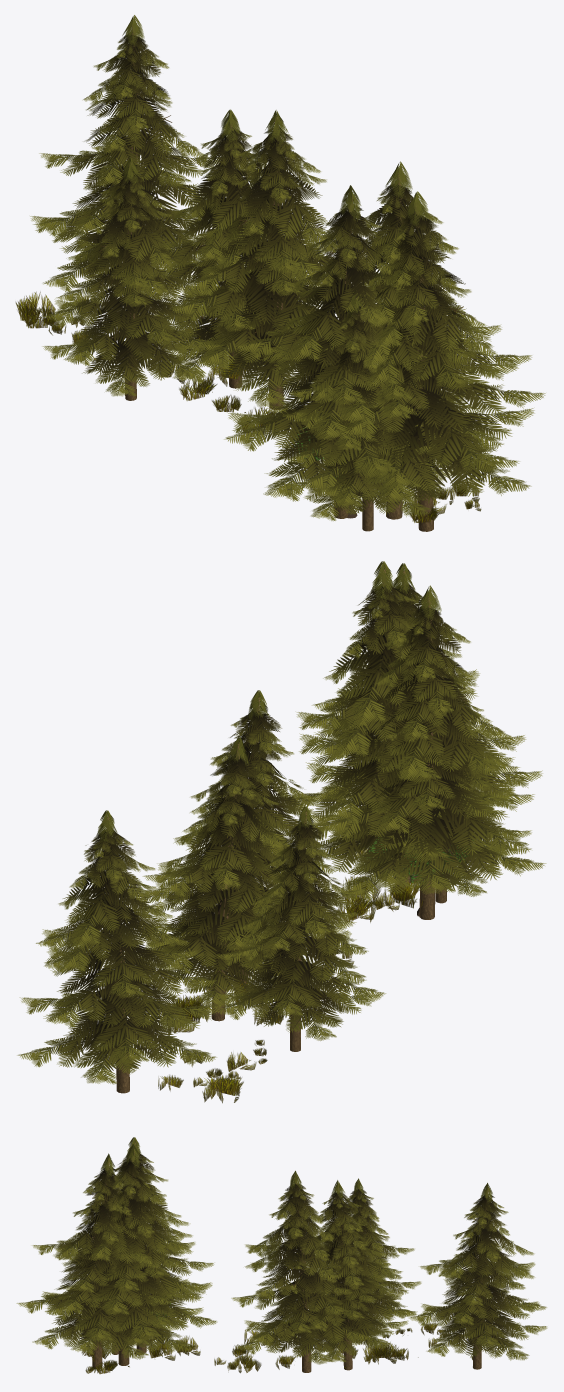
The picture shows the model from 3 angles, top to bottom: view 1: azimuth 30°, elevation 25°; view 2: azimuth 150°, elevation 25°; view 3: azimuth 270°, elevation 25°; orthographic projection. The views are drawn at different scales.
Parts seen in each view (by area): view 1: Low Poly Stylized 2D Grass.1605; view 2: Low Poly Stylized 2D Grass.1605; view 3: Low Poly Stylized 2D Grass.1605.
Boxes of the visible parts, x1=… form: Low Poly Stylized 2D Grass.1605: x1=15, y1=15, x2=545, y2=531; Low Poly Stylized 2D Grass.1605: x1=17, y1=561, x2=546, y2=1103; Low Poly Stylized 2D Grass.1605: x1=16, y1=1137, x2=547, y2=1374.
Bounding box in the file's own units: 12.46 × 14.67 × 31.76.
Materials: 5 (4 with a texture image).
